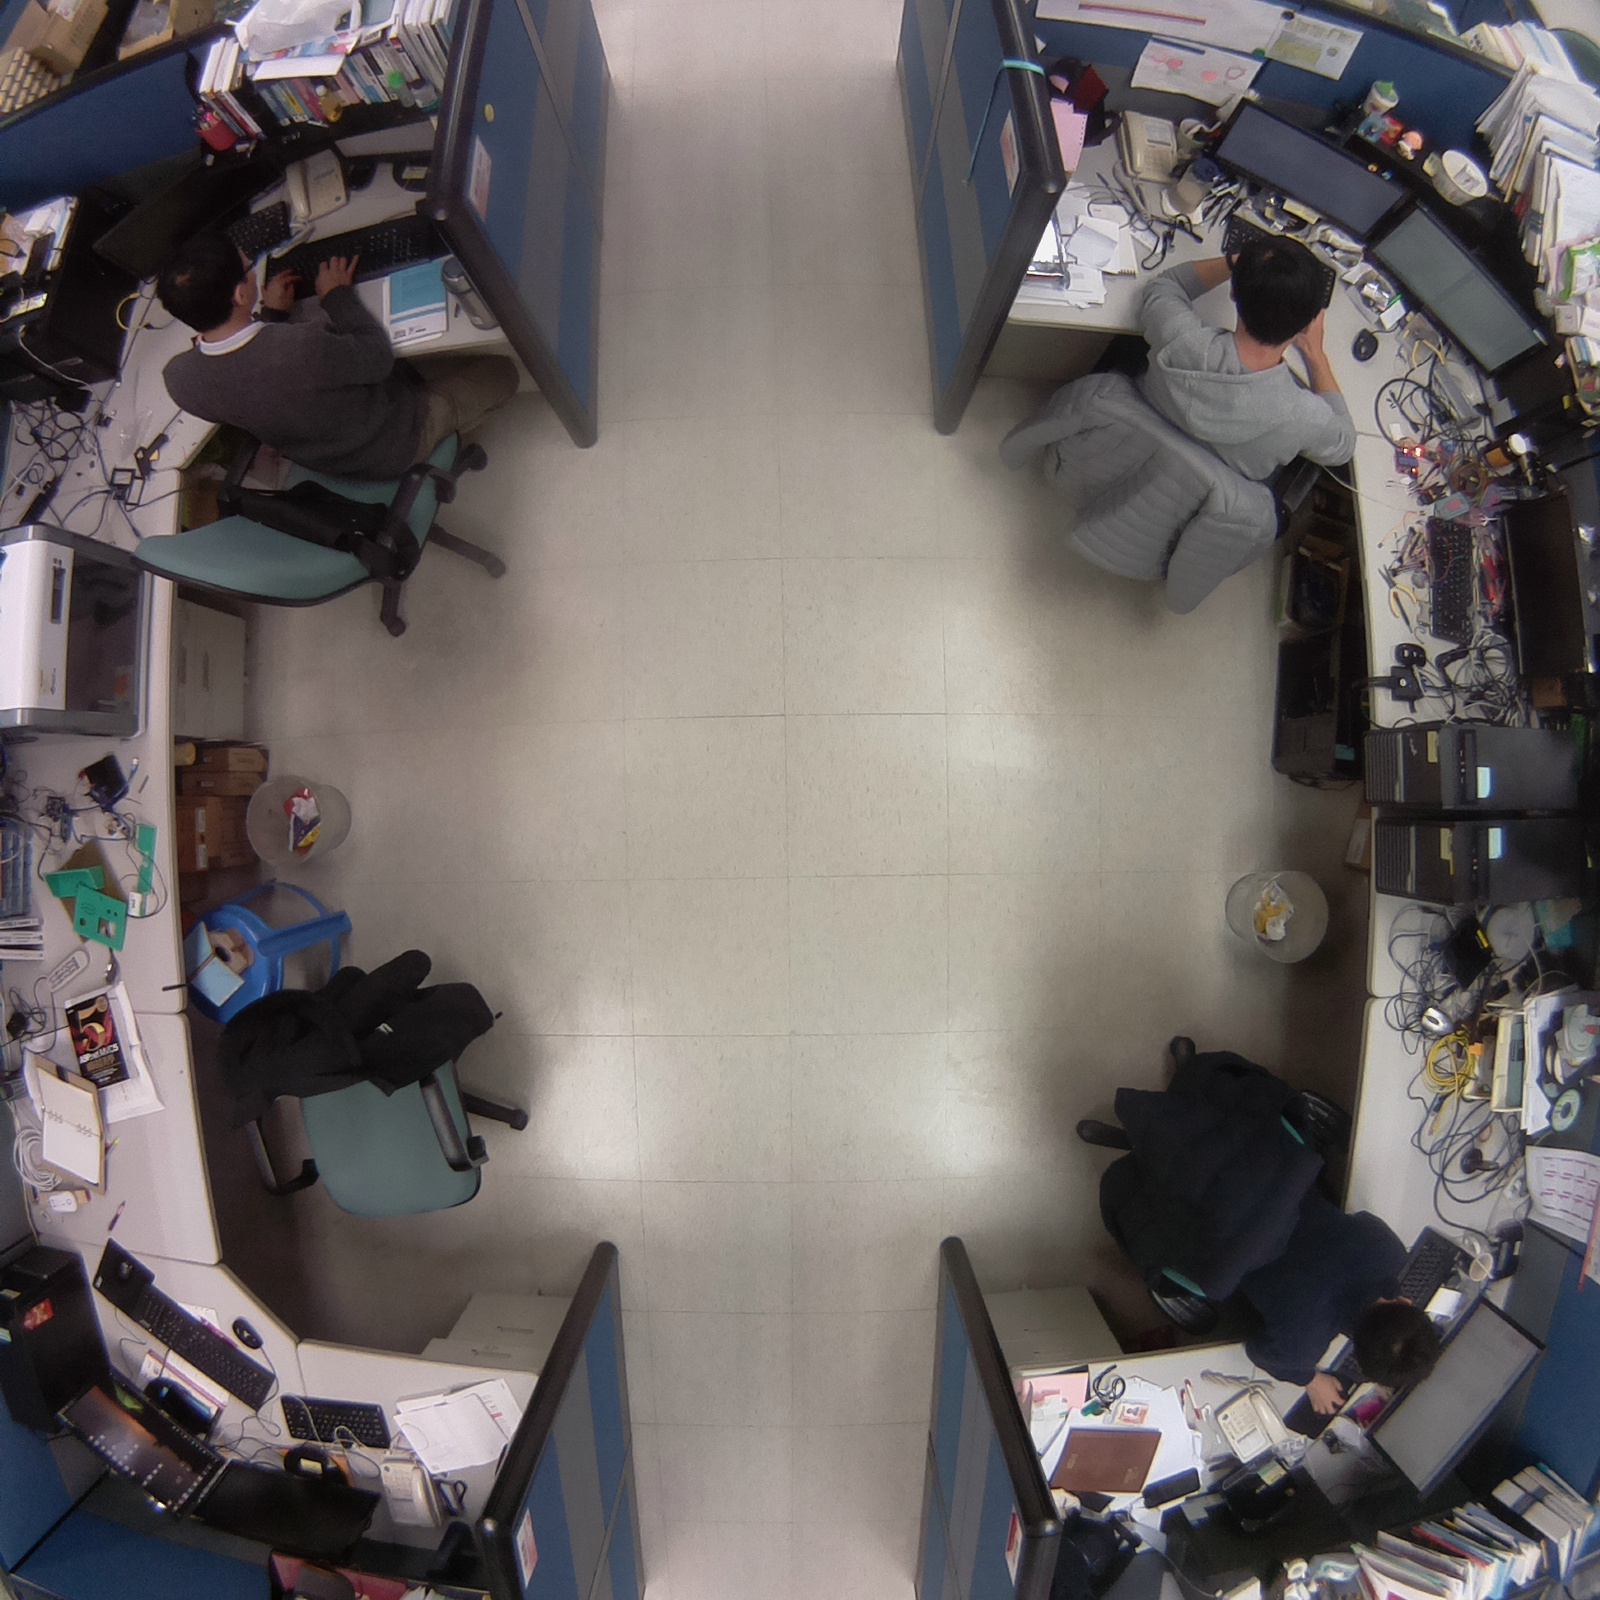chair: (193, 941, 552, 1238)
sitting: (108, 207, 519, 659), (1061, 1015, 1459, 1442), (983, 211, 1383, 624)
